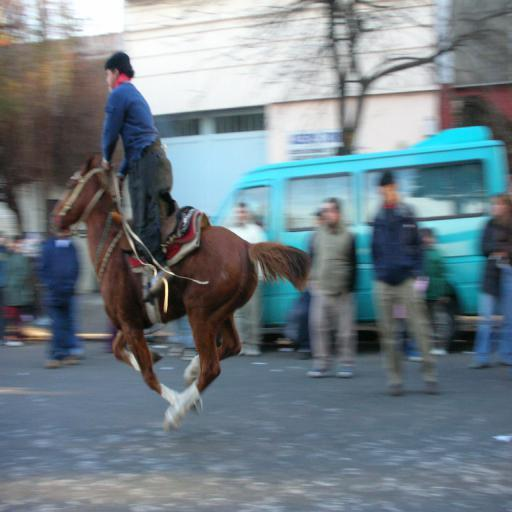horse: (48, 152, 312, 428)
